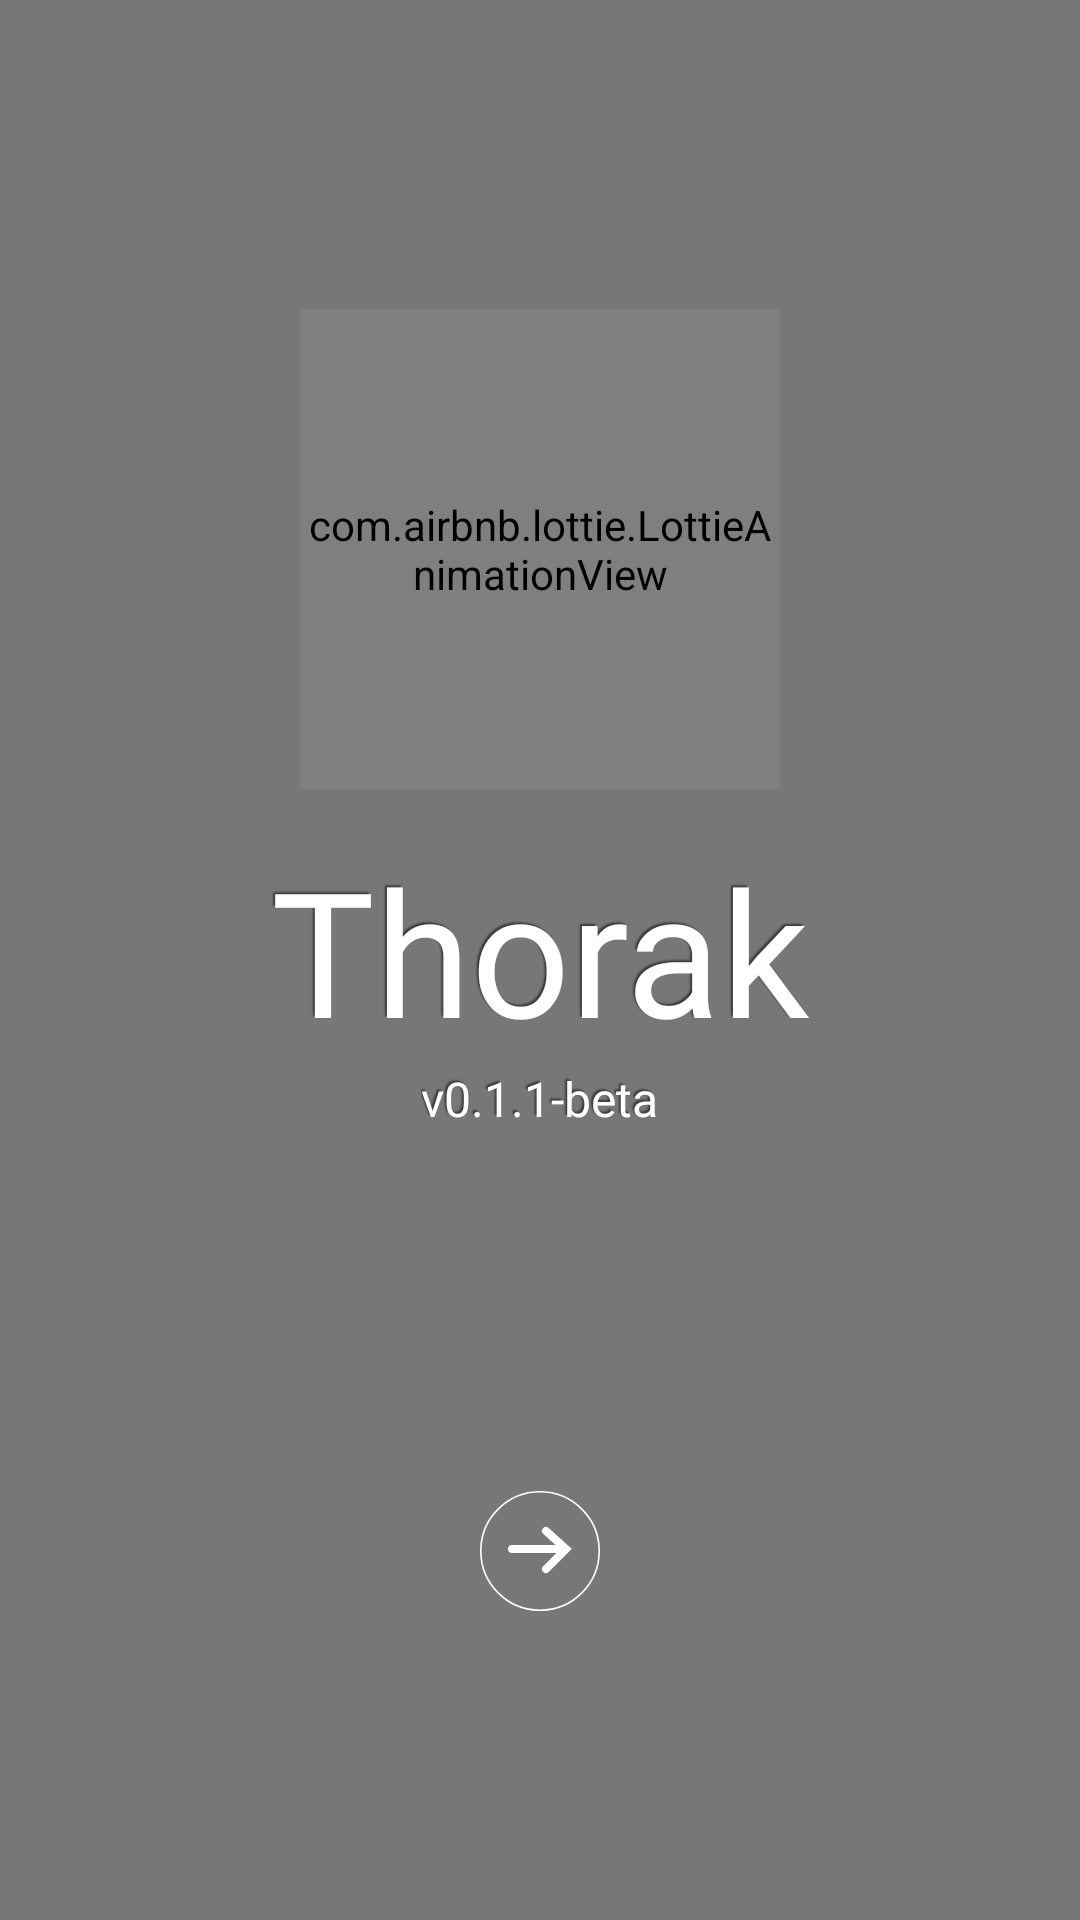

Named icons in this screenshot (1080*1920) and their bounding boxes, {"left": x1, "top": y1, "right": x2, "bottom": y2}:
arroww: {"left": 480, "top": 1491, "right": 600, "bottom": 1611}
